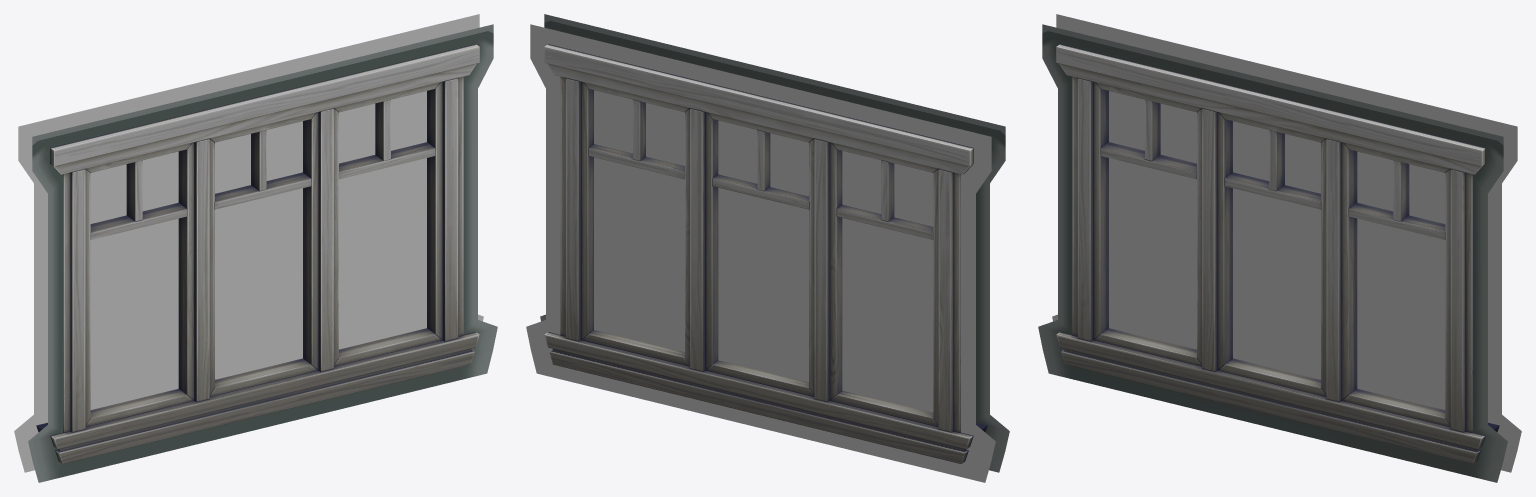
The model's file is ventana.fbx.
The picture shows the model from 3 angles, left to right: view 1: azimuth 30°, elevation 25°; view 2: azimuth 150°, elevation 25°; view 3: azimuth 330°, elevation 25°; orthographic projection.
Parts seen in each view (by area): view 1: s4studio_mesh_5, s4studio_mesh_2, s4studio_mesh_1, s4studio_mesh_4, s4studio_mesh_0; view 2: s4studio_mesh_6, s4studio_mesh_2, s4studio_mesh_0, s4studio_mesh_1, s4studio_mesh_4; view 3: s4studio_mesh_5, s4studio_mesh_2, s4studio_mesh_1, s4studio_mesh_4, s4studio_mesh_0.
Boxes of the visible parts, x1,y1,x2,y2 form: s4studio_mesh_5: (50,44,479,463); s4studio_mesh_2: (90,91,426,409); s4studio_mesh_1: (28,24,497,482); s4studio_mesh_4: (90,89,435,418); s4studio_mesh_0: (14,14,483,472); s4studio_mesh_6: (544,44,973,463); s4studio_mesh_2: (594,90,933,412); s4studio_mesh_0: (526,24,995,482); s4studio_mesh_1: (540,14,1009,472); s4studio_mesh_4: (588,89,933,418); s4studio_mesh_5: (1056,44,1485,463); s4studio_mesh_2: (1109,91,1445,409); s4studio_mesh_1: (1038,24,1507,482); s4studio_mesh_4: (1100,89,1445,418); s4studio_mesh_0: (1052,14,1521,472).
Bounding box in the file's own units: 312 × 220 × 24.9.
6 materials, 4 textured.
